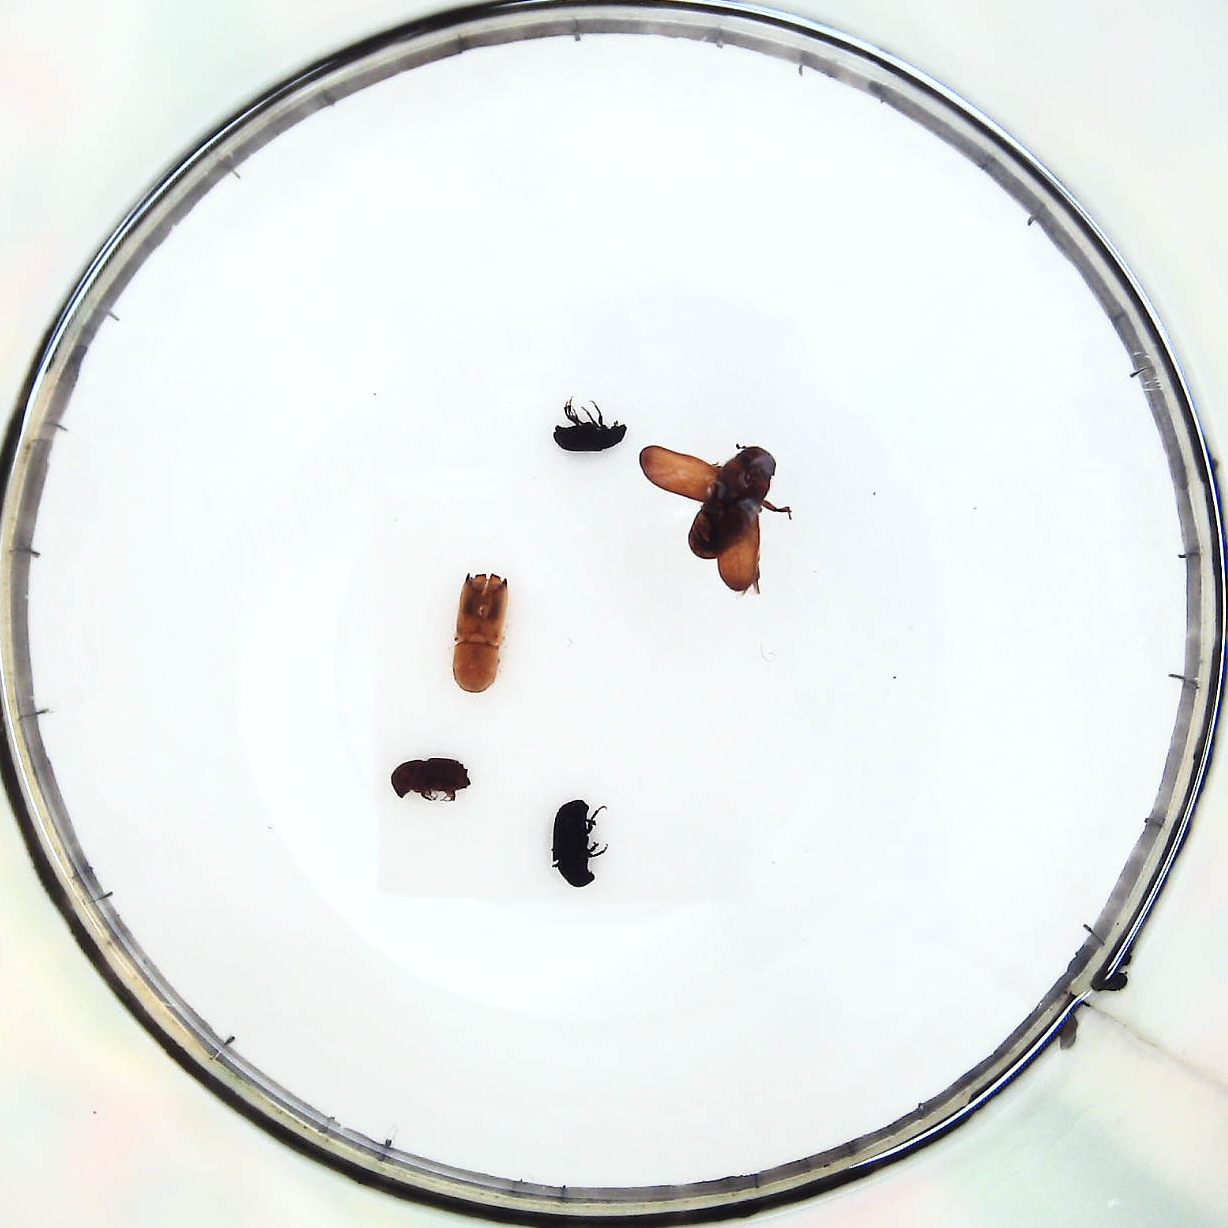Boerner: (450, 570, 511, 693)
Leconte: (635, 439, 784, 597)
Linnaeus: (387, 755, 471, 806)
armandi: (545, 800, 605, 890)
coleoptera: (553, 410, 625, 457)
